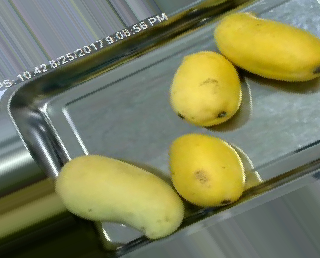Mango: (55, 155, 184, 240), (214, 12, 320, 83), (170, 130, 245, 205), (169, 53, 242, 127)
